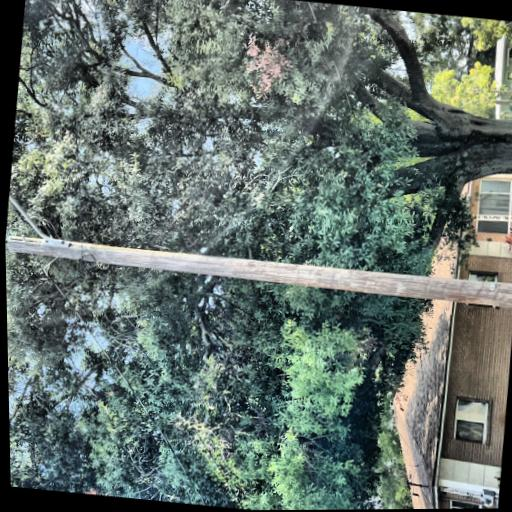pole: (68, 84, 162, 498)
street light: (124, 43, 242, 184)
